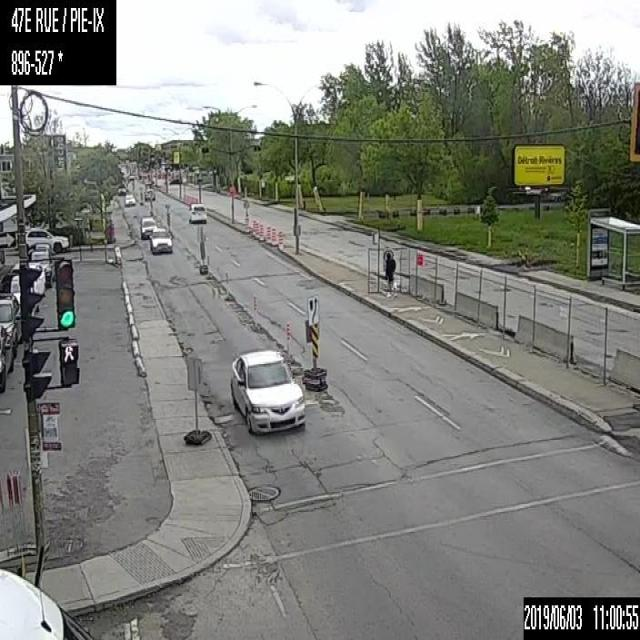construction: (284, 320, 291, 362), (224, 271, 229, 299), (253, 294, 257, 328), (271, 225, 277, 244), (277, 231, 283, 249), (266, 225, 272, 242), (259, 222, 264, 239), (207, 252, 210, 277), (255, 222, 260, 237), (252, 219, 256, 234)
pedestrian: (383, 250, 395, 298)
vehicle: (0, 565, 95, 638), (228, 348, 306, 432), (12, 260, 46, 309), (24, 224, 69, 259), (0, 289, 20, 351), (28, 248, 55, 285), (0, 323, 14, 388), (1, 270, 21, 308), (149, 226, 171, 254), (186, 201, 206, 224), (140, 213, 158, 237), (144, 186, 155, 198), (124, 192, 134, 205), (116, 185, 125, 195)
